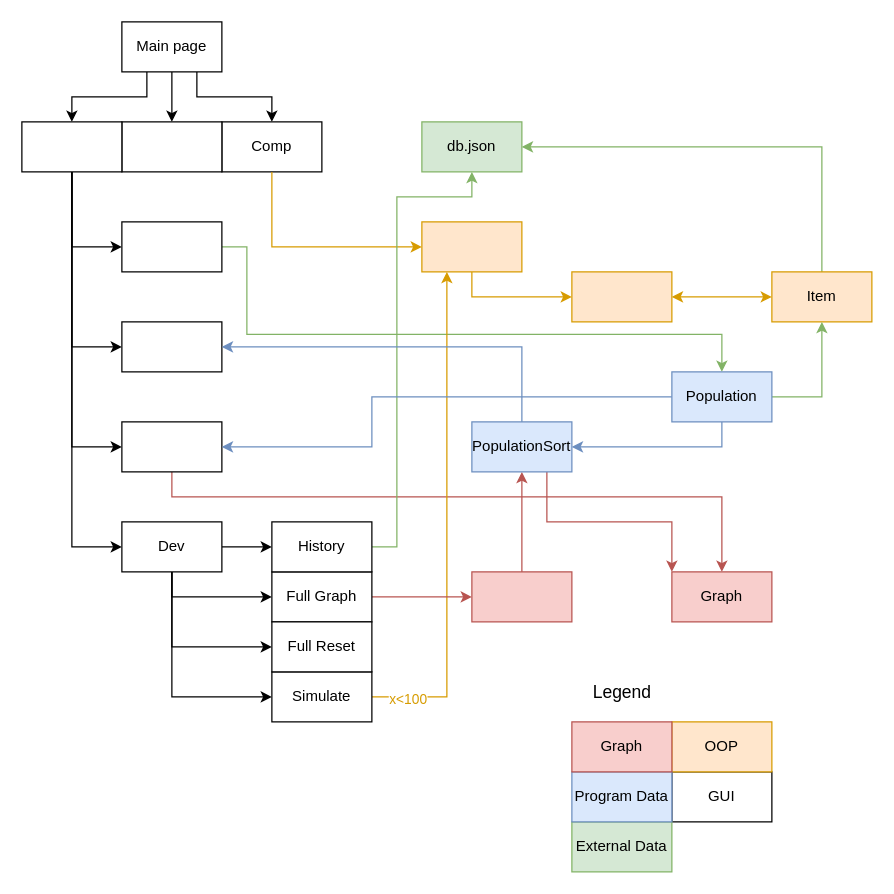
Some shapes in this 894 by 894 pixel diagram are drawn without their labels. The box of each missing label's shape, as (x1, y1, x2, y2) in pixels:
Display Top 5 Rated: (121, 321, 222, 372)
Individual Item Rank History: (121, 421, 222, 472)
nextComp: (421, 221, 522, 272)
Quit: (121, 121, 222, 172)
Save: (121, 221, 222, 272)
Settings: (21, 121, 122, 172)
Slider: (471, 571, 572, 622)
Stage: (571, 271, 672, 322)
